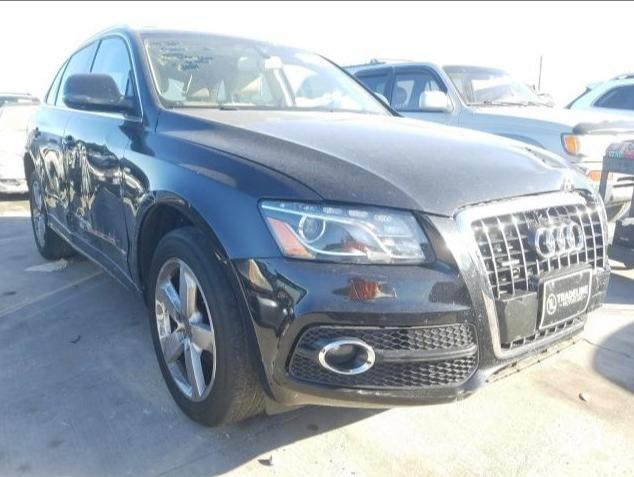Broken part: (455, 188, 611, 359)
Corrosion: (346, 277, 399, 304)
Dent: (228, 258, 315, 370), (44, 185, 138, 286), (524, 142, 594, 189)
Scratch: (79, 217, 126, 254), (44, 183, 69, 211)
